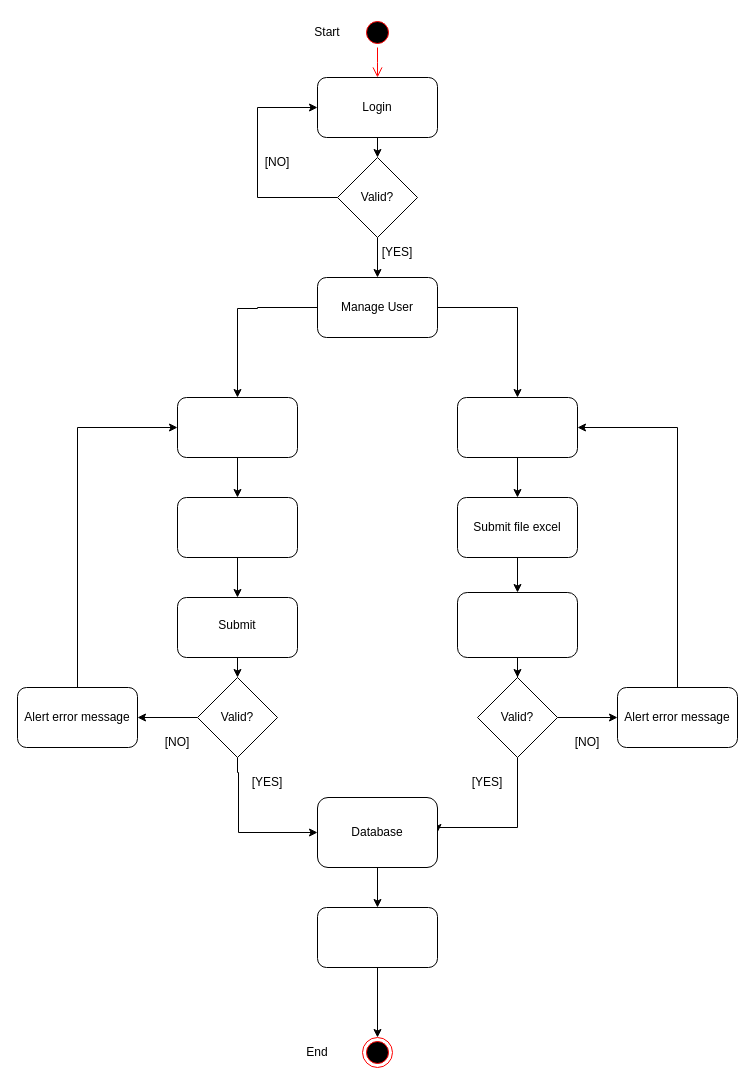
Some shapes in this 755 by 1085 pixel diagram are drawn without their labels. Each missing label, with the box of its shape:
Add a user: (176, 396, 298, 458)
Add many users by excel: (456, 396, 578, 458)
Alert success message: (316, 906, 438, 968)
Fill information: (176, 496, 298, 558)
Import: (456, 592, 578, 658)
